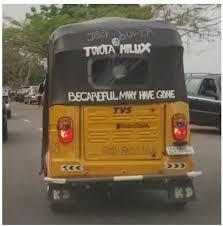keke: (38, 17, 196, 219)
